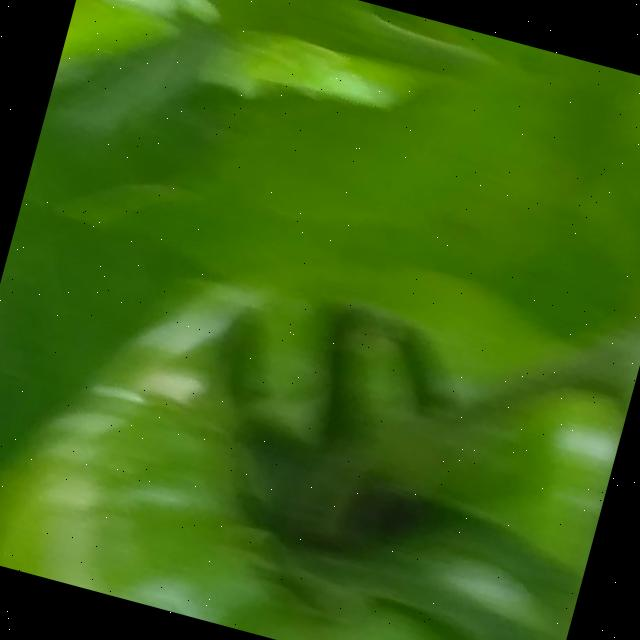tomato: (0, 141, 640, 640)
